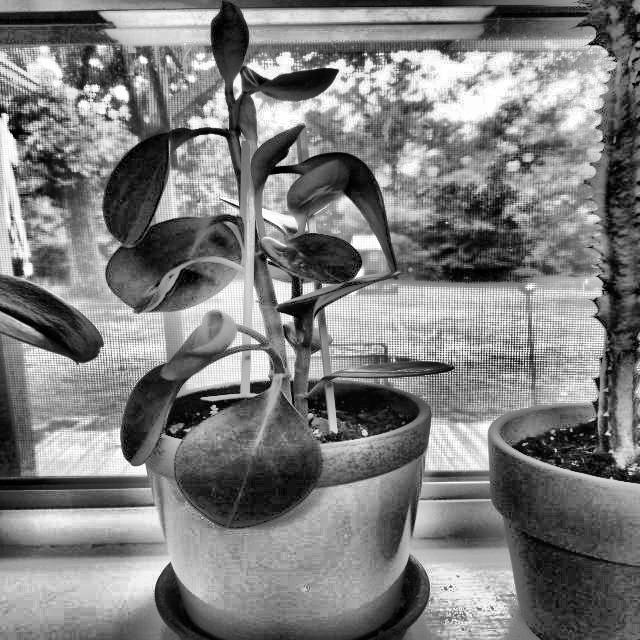plants: (82, 69, 489, 640)
